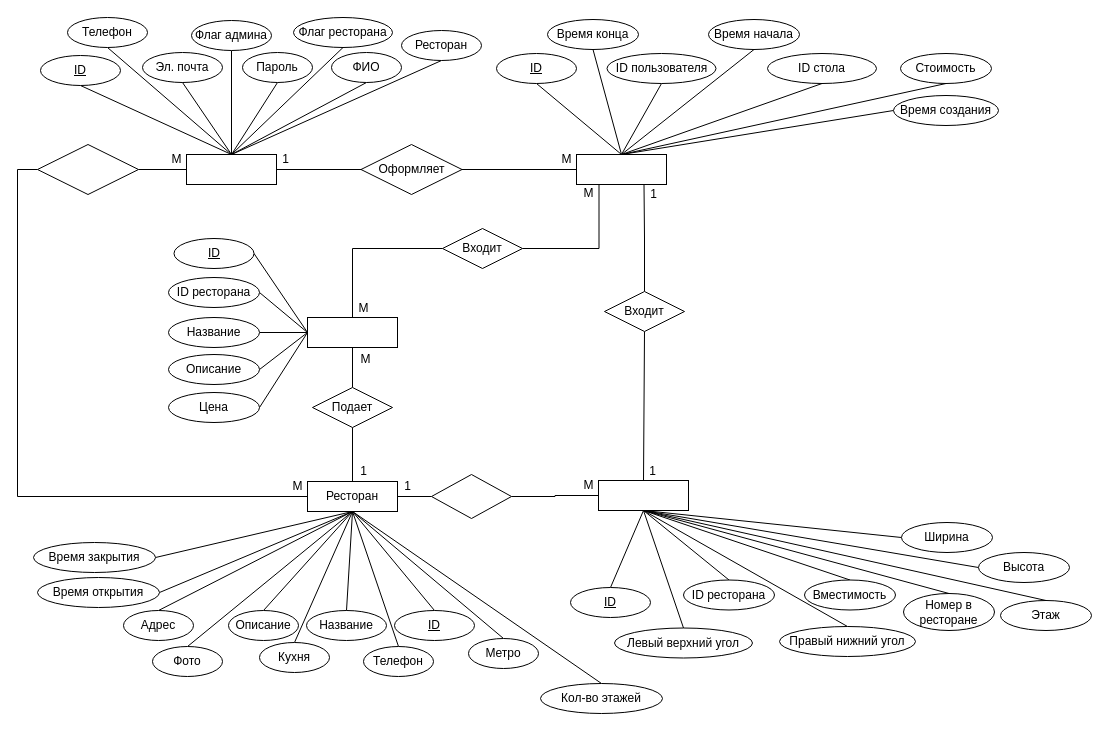
The diagram is 1109 pixels wide and 731 high, and some of its shapes have lost their labels. Each missing label, with the box of its shape:
Блюдо: (306, 316, 398, 348)
Вмещает: (430, 474, 512, 518)
Заказ: (576, 154, 666, 184)
Пользователь: (186, 154, 276, 184)
Сохраняет: (36, 144, 138, 194)
Стол: (598, 480, 688, 510)
